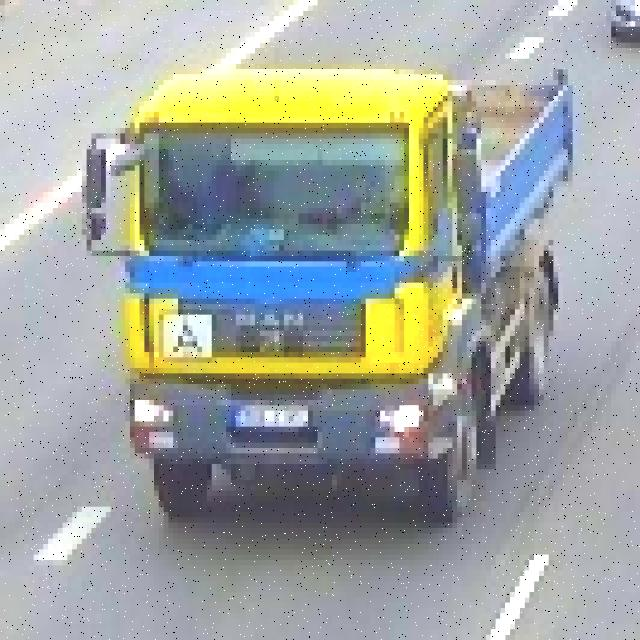truck: (87, 59, 587, 522)
